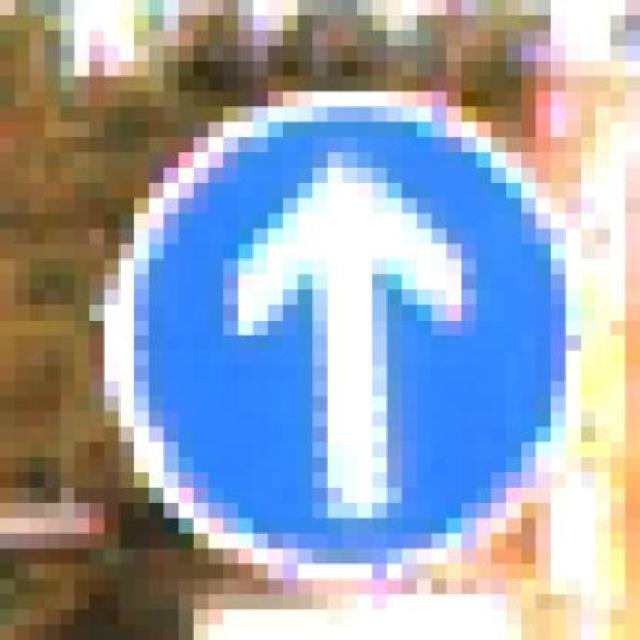Straight Ahead Only: (74, 76, 580, 595)
